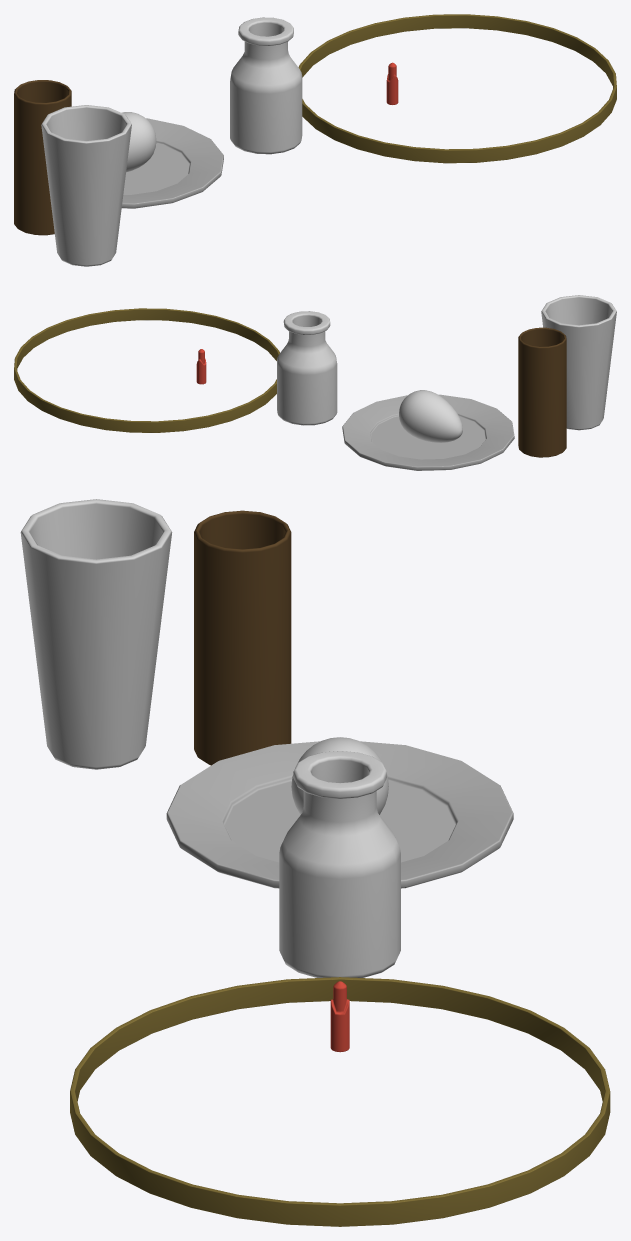
Rendered from set3-Objects.fbx.
3 renders of one model, top to bottom at view 1: azimuth 30°, elevation 25°; view 2: azimuth 150°, elevation 25°; view 3: azimuth 270°, elevation 25°, orthographic. The views are drawn at different scales.
Visible parts, largest first — view 1: Cylinder.009, Cylinder.006, Cylinder.007, Cylinder.008, Circle.001, Sphere.001, Cylinder.005; view 2: Circle.001, Cylinder.006, Cylinder.009, Cylinder.008, Cylinder.007, Sphere.001, Cylinder.005; view 3: Cylinder.009, Cylinder.006, Circle.001, Cylinder.007, Cylinder.008, Sphere.001, Cylinder.005.
Part boxes in pixels (left/top/right/bottom): Cylinder.009: left=41, top=105, right=131, bottom=266; Cylinder.006: left=298, top=14, right=616, bottom=163; Cylinder.007: left=230, top=17, right=302, bottom=154; Cylinder.008: left=14, top=80, right=71, bottom=235; Circle.001: left=121, top=118, right=223, bottom=208; Sphere.001: left=122, top=112, right=156, bottom=172; Cylinder.005: left=386, top=62, right=398, bottom=104; Circle.001: left=342, top=394, right=514, bottom=470; Cylinder.006: left=14, top=308, right=279, bottom=432; Cylinder.009: left=541, top=295, right=616, bottom=430; Cylinder.008: left=518, top=327, right=566, bottom=457; Cylinder.007: left=277, top=311, right=337, bottom=425; Sphere.001: left=399, top=390, right=462, bottom=442; Cylinder.005: left=196, top=349, right=206, bottom=384; Cylinder.009: left=20, top=499, right=172, bottom=769; Cylinder.006: left=70, top=977, right=610, bottom=1226; Circle.001: left=166, top=741, right=513, bottom=888; Cylinder.007: left=279, top=751, right=400, bottom=977; Cylinder.008: left=194, top=510, right=291, bottom=765; Sphere.001: left=291, top=737, right=388, bottom=814; Cylinder.005: left=330, top=981, right=349, bottom=1052.
Bounding box in the file's own units: 9.84 × 2.01 × 4.84.
